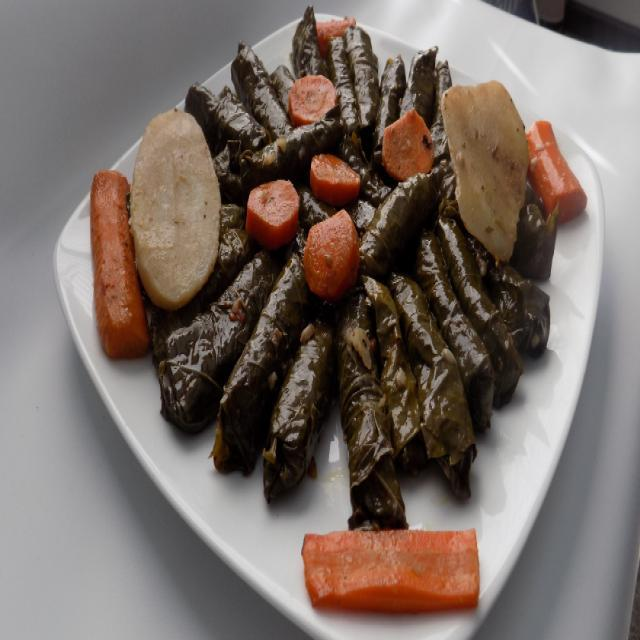wara enab: (182, 9, 556, 493)
